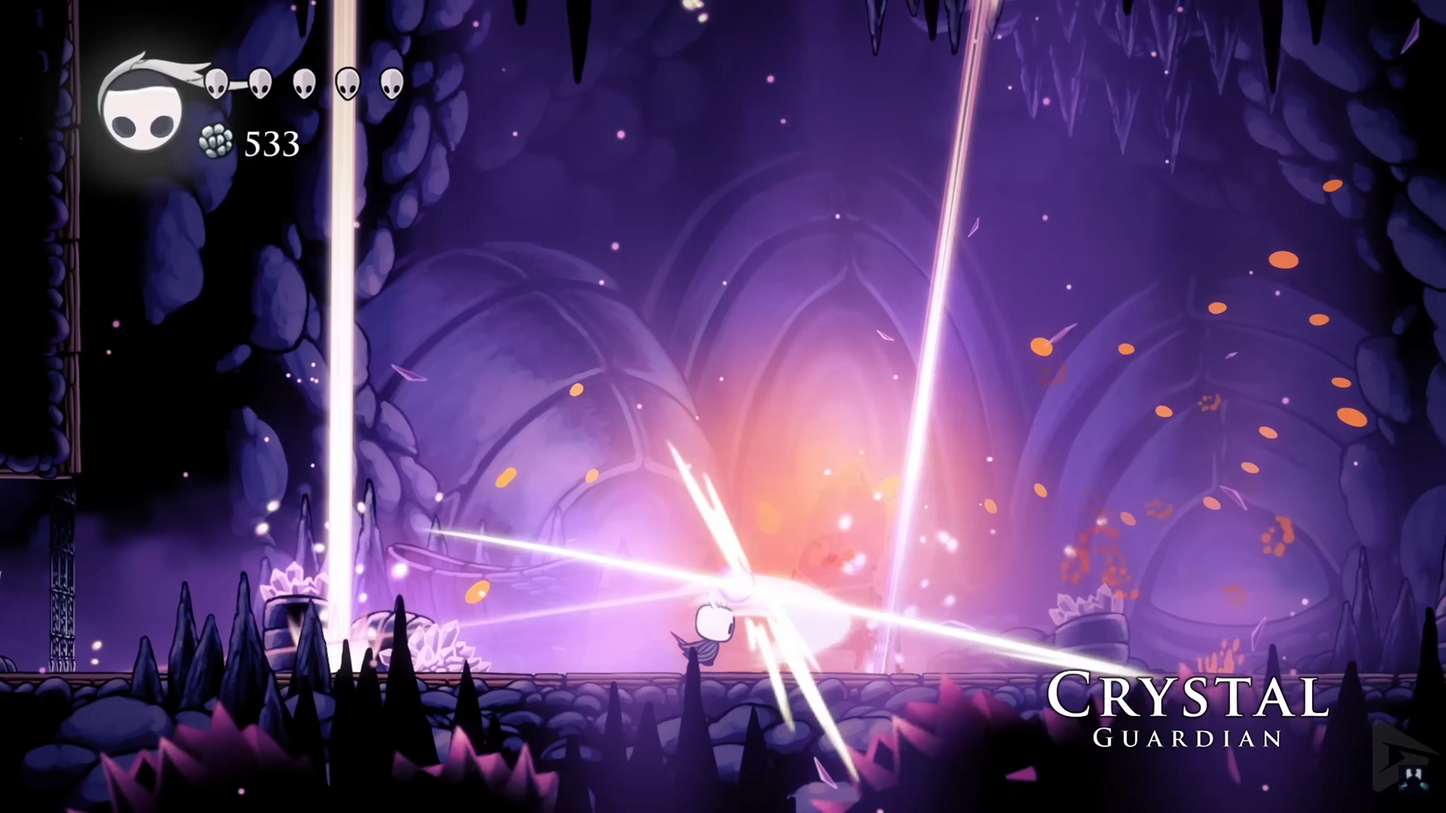HK: (677, 597, 740, 675)
